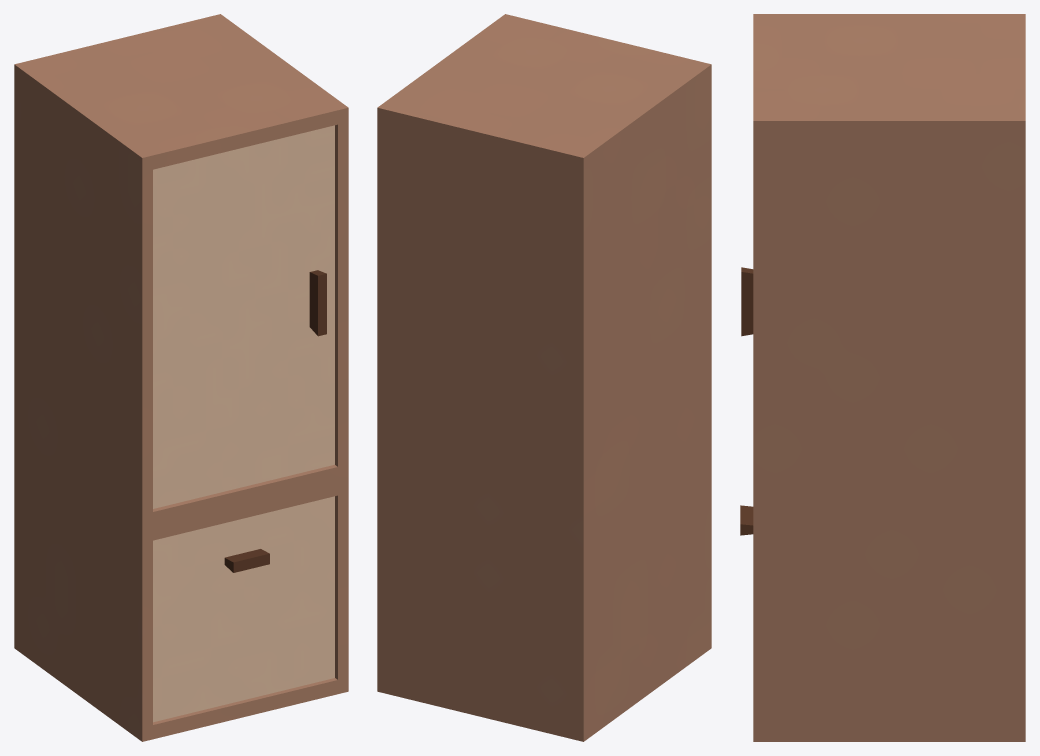
Rendered from Closet_01_01.fbx.
3 views of the same model, side by side, from view 1: azimuth 30°, elevation 25°; view 2: azimuth 150°, elevation 25°; view 3: azimuth 270°, elevation 25° (orthographic). The views are drawn at different scales.
Visible parts, largest first — view 1: Closet_01_01, Closet_Door_Upper, Closet_Door_Bottom; view 2: Closet_01_01; view 3: Closet_01_01, Closet_Door_Upper.
Part boxes in pixels (x1=…): Closet_01_01: x1=14, y1=14, x2=348, y2=741; Closet_Door_Upper: x1=153, y1=125, x2=334, y2=508; Closet_Door_Bottom: x1=153, y1=496, x2=334, y2=722; Closet_01_01: x1=377, y1=14, x2=711, y2=741; Closet_01_01: x1=753, y1=14, x2=1025, y2=741; Closet_Door_Upper: x1=741, y1=267, x2=753, y2=336.
Bounding box in the file's own units: 0.7189 × 1.94 × 0.8096.
